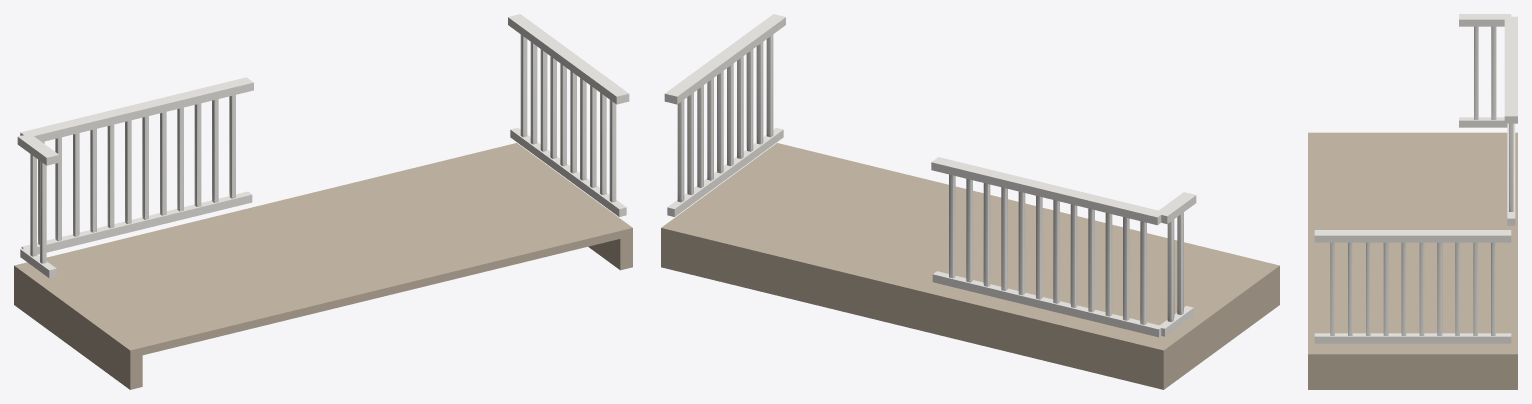
File: porch_deck_low.glb
The picture shows the model from 3 angles, left to right: view 1: azimuth 30°, elevation 25°; view 2: azimuth 150°, elevation 25°; view 3: azimuth 270°, elevation 25°; orthographic projection. The views are drawn at different scales.
Visible parts, largest first — view 1: porch_deck_low_wood, porch_deck_low_trim; view 2: porch_deck_low_wood, porch_deck_low_trim; view 3: porch_deck_low_wood, porch_deck_low_trim.
Boxes of the visible parts, left/top/right/bottom form: porch_deck_low_wood: left=14, top=143, right=632, bottom=389; porch_deck_low_trim: left=17, top=14, right=629, bottom=278; porch_deck_low_wood: left=661, top=143, right=1279, bottom=389; porch_deck_low_trim: left=664, top=14, right=1196, bottom=337; porch_deck_low_wood: left=1308, top=132, right=1517, bottom=389; porch_deck_low_trim: left=1314, top=14, right=1517, bottom=343.
Bounding box in the file's own units: 4 × 1.3 × 1.6.
